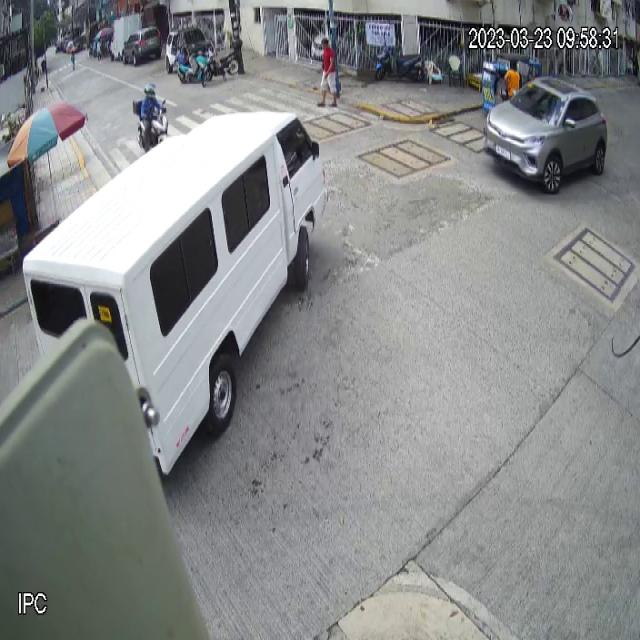Car: (484, 75, 609, 195)
Motorcycle: (128, 98, 170, 154)
Van: (23, 108, 330, 478)
